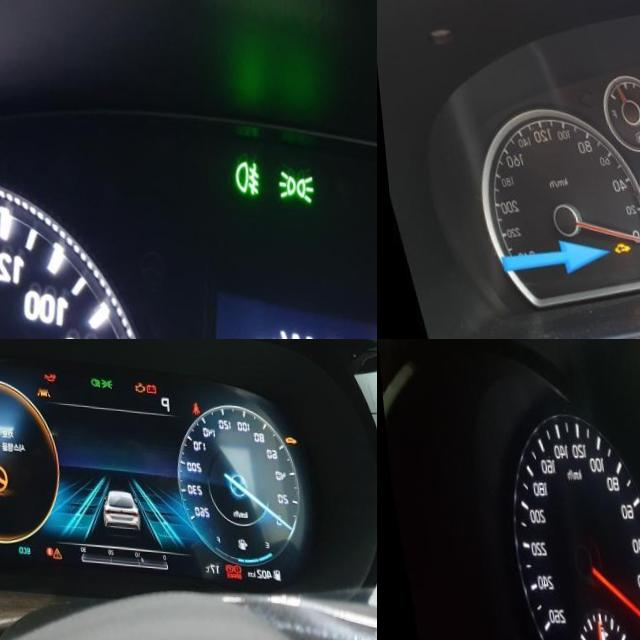Central Warning lamp: (45, 544, 54, 557)
FrontFogLight: (228, 153, 259, 193)
LaneCenteringOff: (33, 384, 47, 395)
Low beam: (87, 374, 97, 384)
SideLamp: (271, 164, 314, 199), (96, 373, 109, 386)
